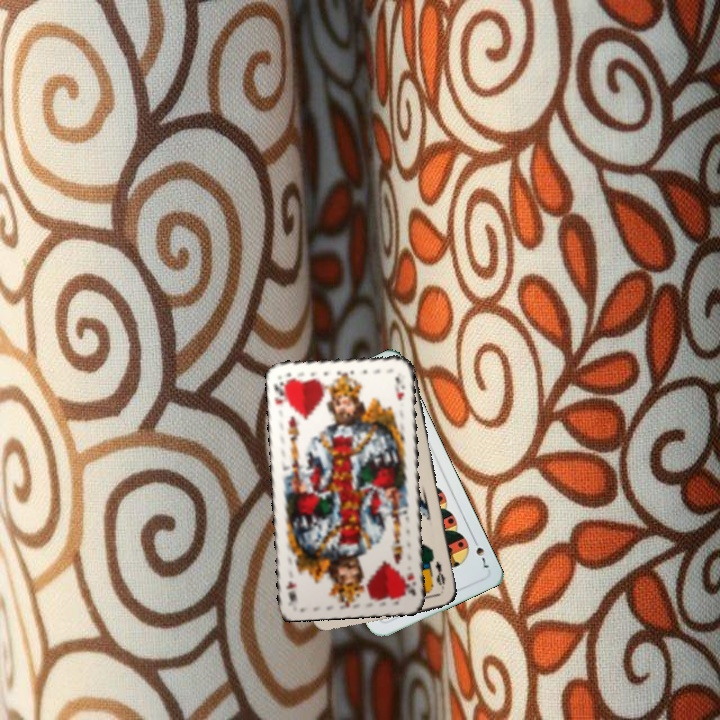EO: (431, 557, 448, 592)
HK: (269, 375, 290, 407), (400, 568, 419, 598)
S7: (469, 533, 491, 571)
